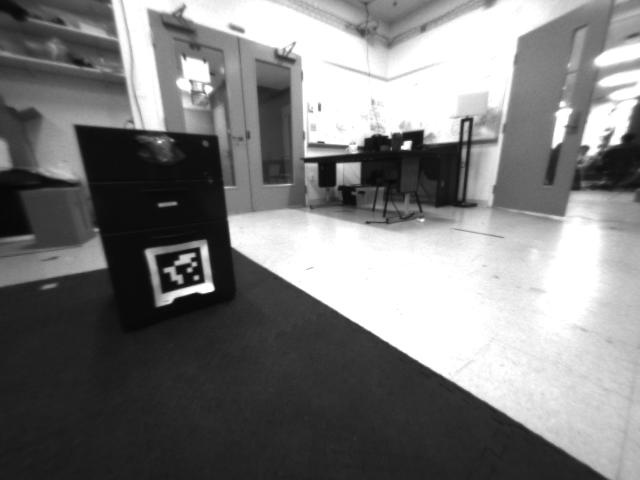door_handle: (223, 131, 247, 146)
drawer: (128, 130, 184, 176)
